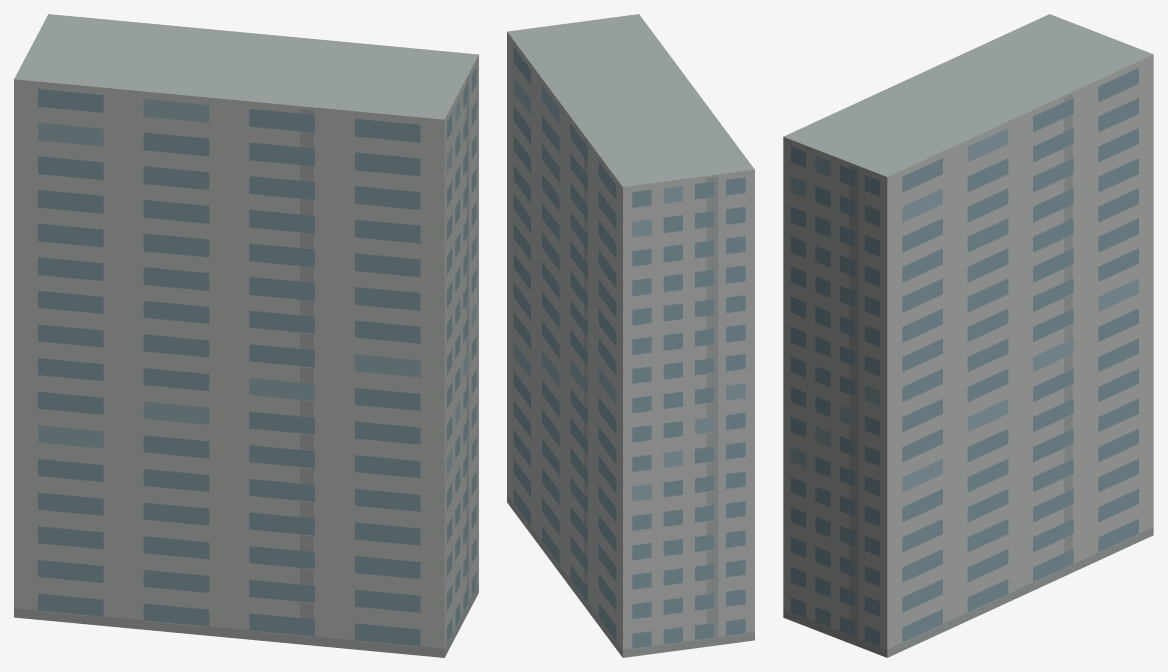
The model's file is residential-07653891-cd96-4877-b6d5-9697d77f3716.glb.
The picture shows the model from 3 angles, left to right: view 1: azimuth 30°, elevation 25°; view 2: azimuth 150°, elevation 25°; view 3: azimuth 270°, elevation 25°; orthographic projection. The views are drawn at different scales.
Visible parts, largest first — view 1: residential-07653891-cd96-4877-b6d5-9697d77f3716.tmp; view 2: residential-07653891-cd96-4877-b6d5-9697d77f3716.tmp; view 3: residential-07653891-cd96-4877-b6d5-9697d77f3716.tmp.
Boxes of the visible parts, x1,y1,x2,y2 form: residential-07653891-cd96-4877-b6d5-9697d77f3716.tmp: (14,14,478,657); residential-07653891-cd96-4877-b6d5-9697d77f3716.tmp: (507,14,754,657); residential-07653891-cd96-4877-b6d5-9697d77f3716.tmp: (783,14,1153,657).
Size of the model in its own units: 37.1 by 51 by 35.62.
